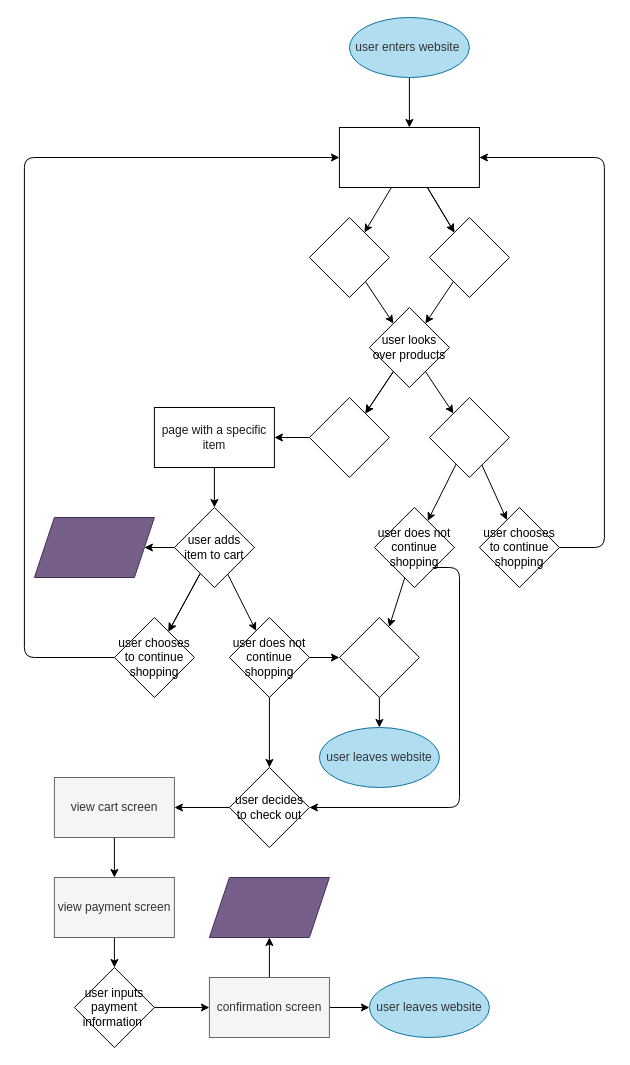
Some shapes in this 630 by 1065 pixel diagram are drawn without their labels. Each missing label, with the box of its shape:
home page: (338, 126, 479, 188)
receives cart confirmation: (33, 516, 154, 578)
receives confirmation email: (208, 876, 329, 938)
user can explore objects on the home page: (308, 216, 389, 298)
user chooses to view a specific item: (308, 396, 389, 478)
user decides not to check out: (338, 616, 419, 698)
user does not choose to view a specific item: (428, 396, 509, 478)
user searches for products: (428, 216, 509, 298)
